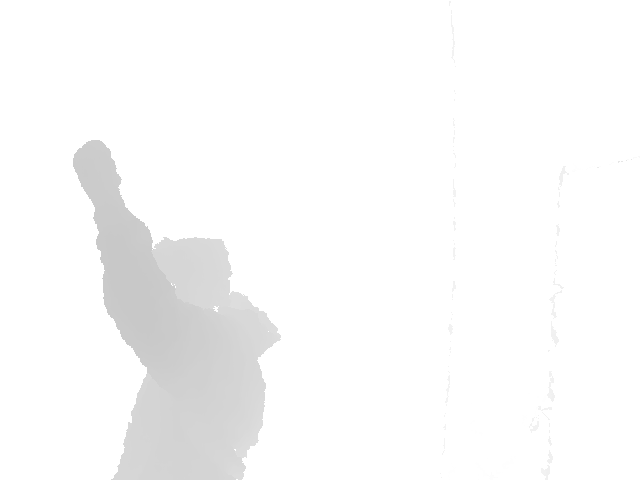hand: (71, 138, 123, 191)
head: (147, 236, 232, 319)
person: (71, 138, 282, 480)
